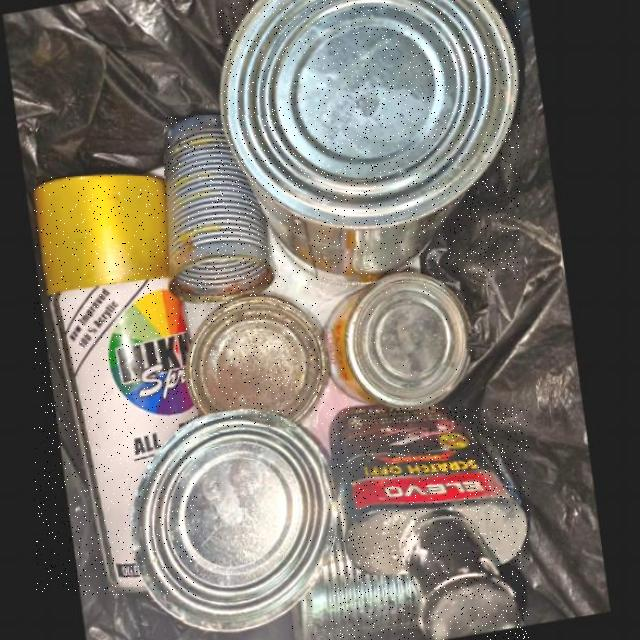metal: (219, 0, 520, 289), (34, 176, 198, 596), (132, 411, 339, 636), (165, 116, 277, 307), (326, 274, 472, 413), (186, 299, 331, 427), (292, 540, 427, 639)
plastic: (329, 407, 529, 640)
